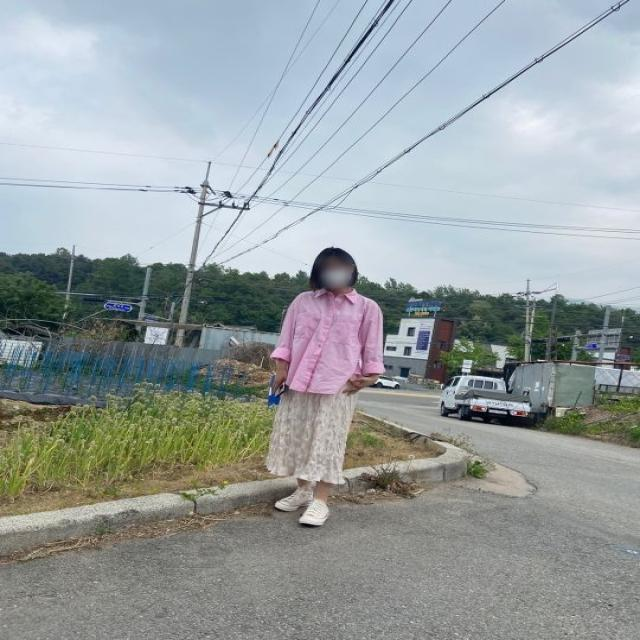shirt: (270, 287, 386, 394)
skirt: (262, 378, 356, 489)
